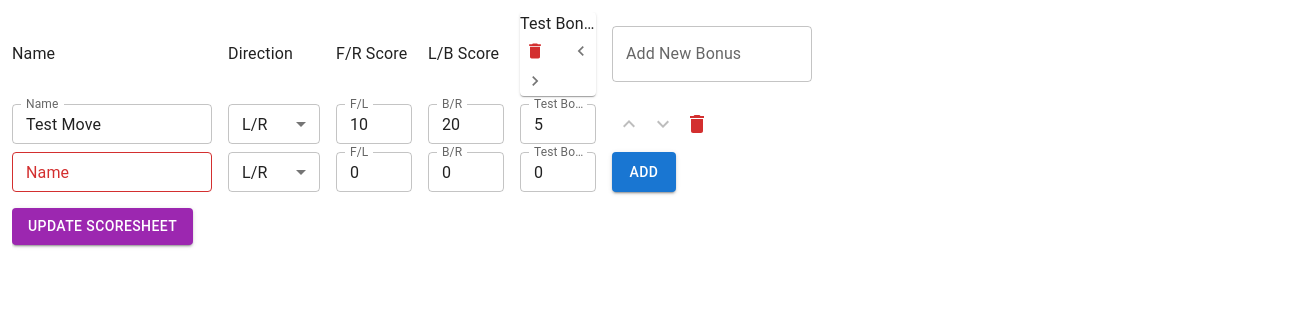
Test: ScoresheetMoves › displays existing moves and bonuses
Check: the 1st field showing "Test Move" is shown, box top-left (12, 104), bottom-right (212, 144)
Check: the 1st field showing "10" is shown, box top-left (336, 104), bottom-right (412, 144)
// Verify we can change direction
Click the 1st dropdown labelled "L/R" at (255, 124), box top-left (242, 114), bottom-right (268, 134)
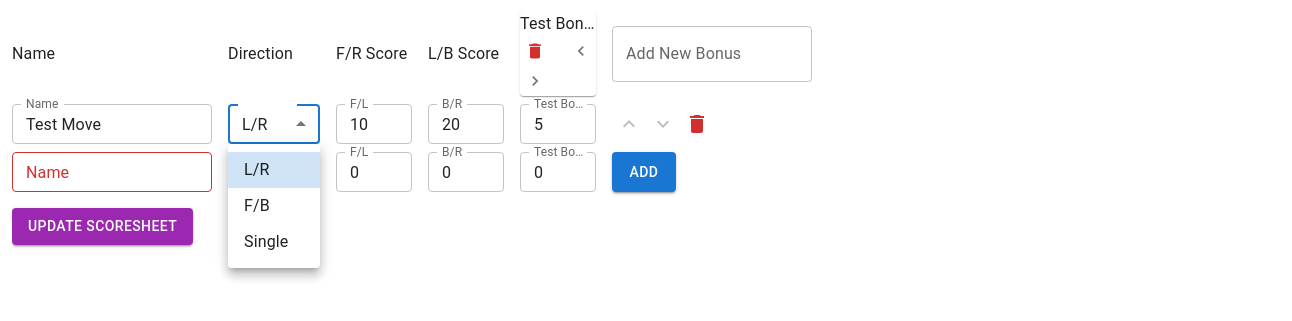
Click the option "F/B" at (257, 206), box top-left (244, 196), bottom-right (270, 215)
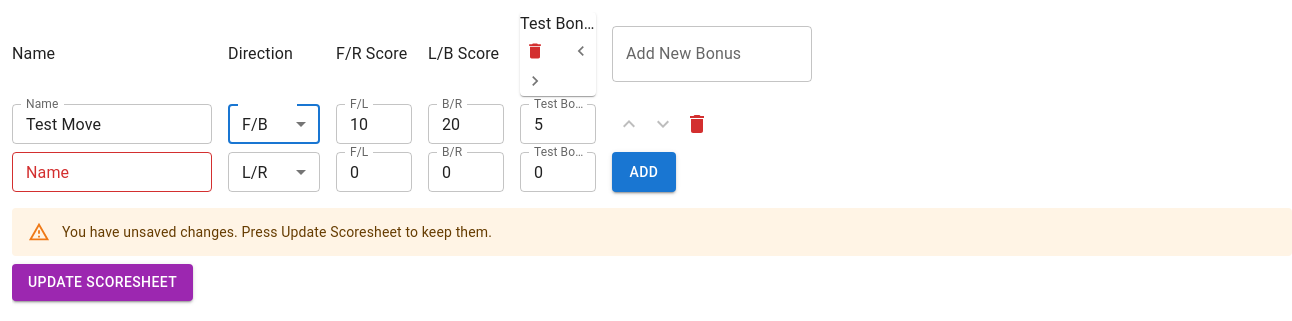
Check: the field showing "5" in the row of "F/B" is shown, box top-left (520, 104), bottom-right (596, 144)
Check: the dropdown labelled "F/B" is shown, box top-left (242, 114), bottom-right (268, 134)
